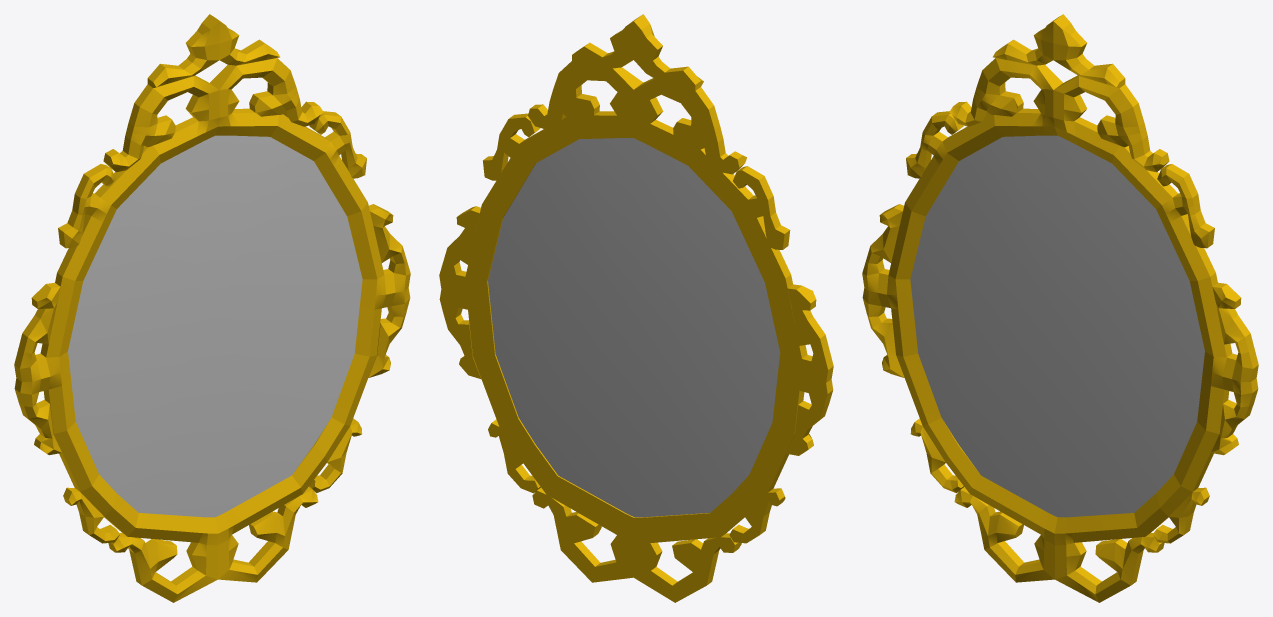
File: Mansion_Mirror_All.fbx
The picture shows the model from 3 angles, left to right: view 1: azimuth 30°, elevation 25°; view 2: azimuth 150°, elevation 25°; view 3: azimuth 330°, elevation 25°; orthographic projection.
Visible parts, largest first — view 1: Mirror_All; view 2: Mirror_All; view 3: Mirror_All.
Boxes of the visible parts, left/top/right/bottom form: Mirror_All: left=14, top=14, right=410, bottom=602; Mirror_All: left=439, top=14, right=833, bottom=602; Mirror_All: left=862, top=14, right=1258, bottom=602.
Size of the model in its own units: 118 by 165 by 5.14.
